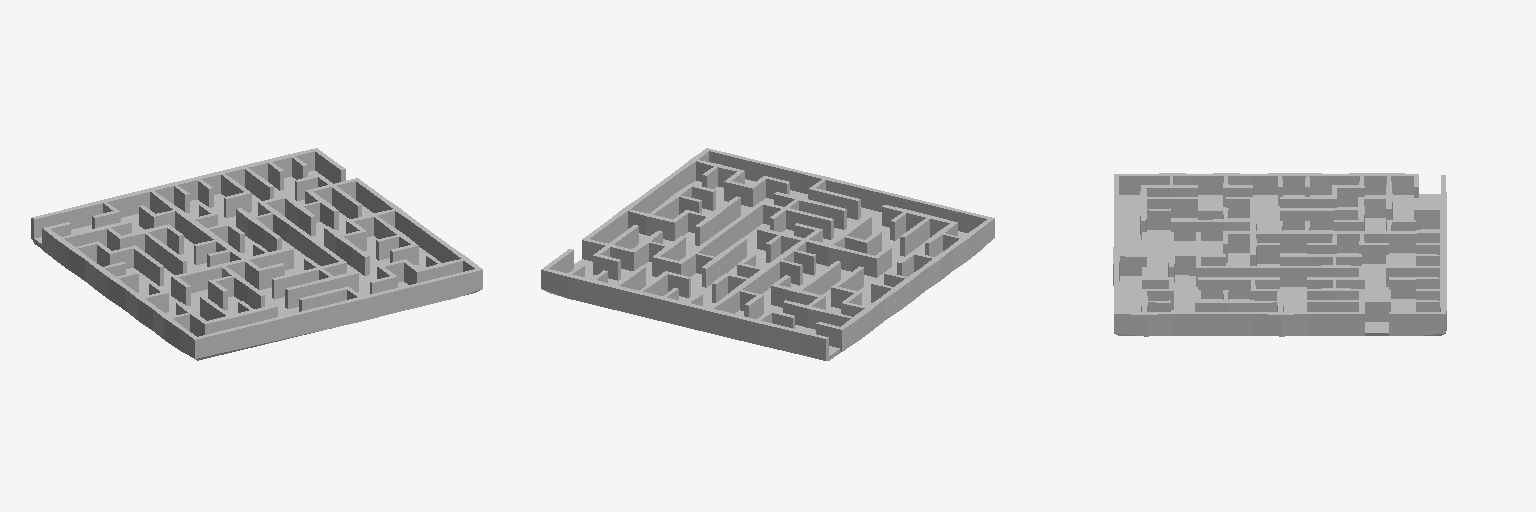
File: maze_intermediate_1.obj
3 renders of one model, left to right at view 1: azimuth 30°, elevation 25°; view 2: azimuth 150°, elevation 25°; view 3: azimuth 270°, elevation 25°, orthographic.
Visible parts, largest first — view 1: maze_Mesh.007; view 2: maze_Mesh.007; view 3: maze_Mesh.007.
Boxes of the visible parts, x1=… form: maze_Mesh.007: x1=31, y1=148, x2=482, y2=360; maze_Mesh.007: x1=541, y1=148, x2=994, y2=360; maze_Mesh.007: x1=1113, y1=173, x2=1446, y2=336.
Size of the model in its own units: 14.25 by 1.13 by 14.25.